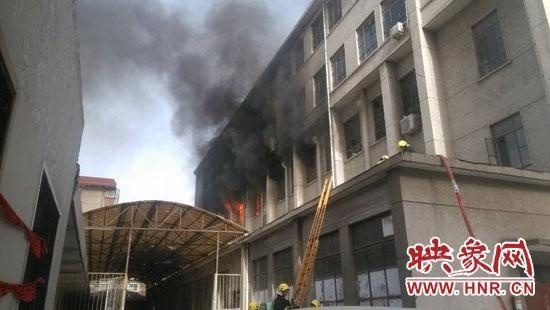fire: (226, 198, 246, 220)
